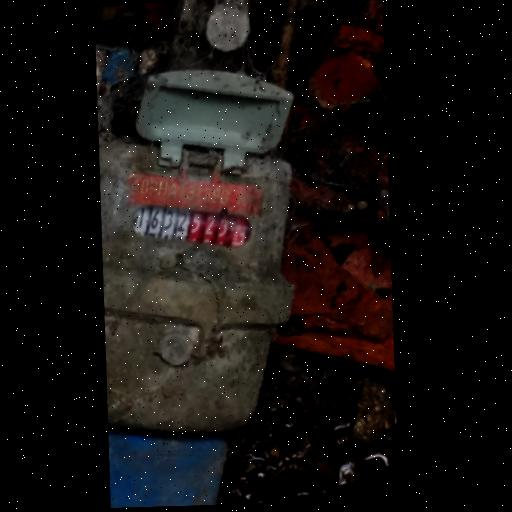1: (133, 203, 152, 237)
2: (199, 210, 222, 246), (173, 207, 194, 243)
3: (213, 210, 235, 247), (159, 205, 180, 241)
5: (184, 209, 207, 244)
6: (228, 214, 252, 250), (144, 204, 166, 239)
border_water_meter_number: (125, 191, 258, 262)
